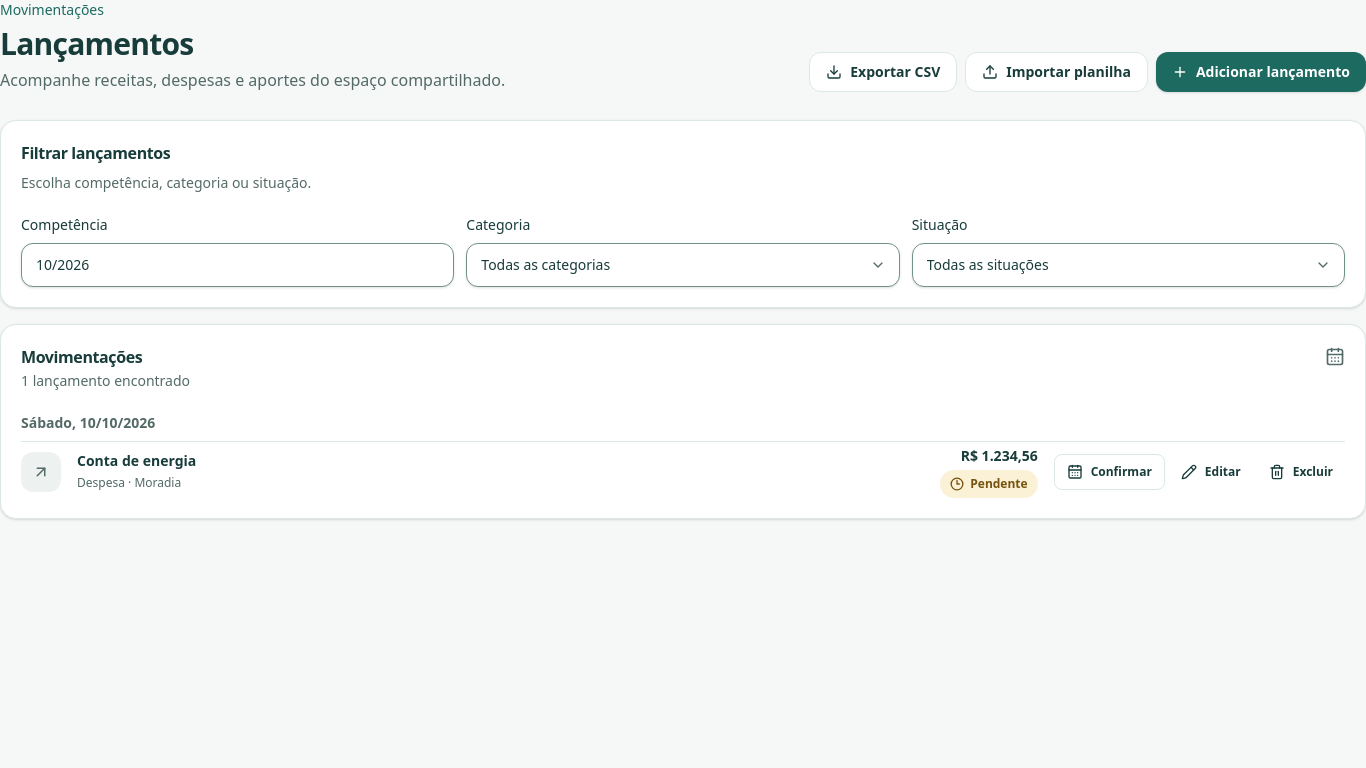
Scenario: financial entry pages › filters the shared list and deletes an entry after confirmation
The width and height of the screenshot is (1366, 768).
Expected: the text "Conta de energia" is shown, [77,451,196,470]
Select "Moradia" in the dropdown labelled "Categoria" at (683, 265), box [466,243,900,287]
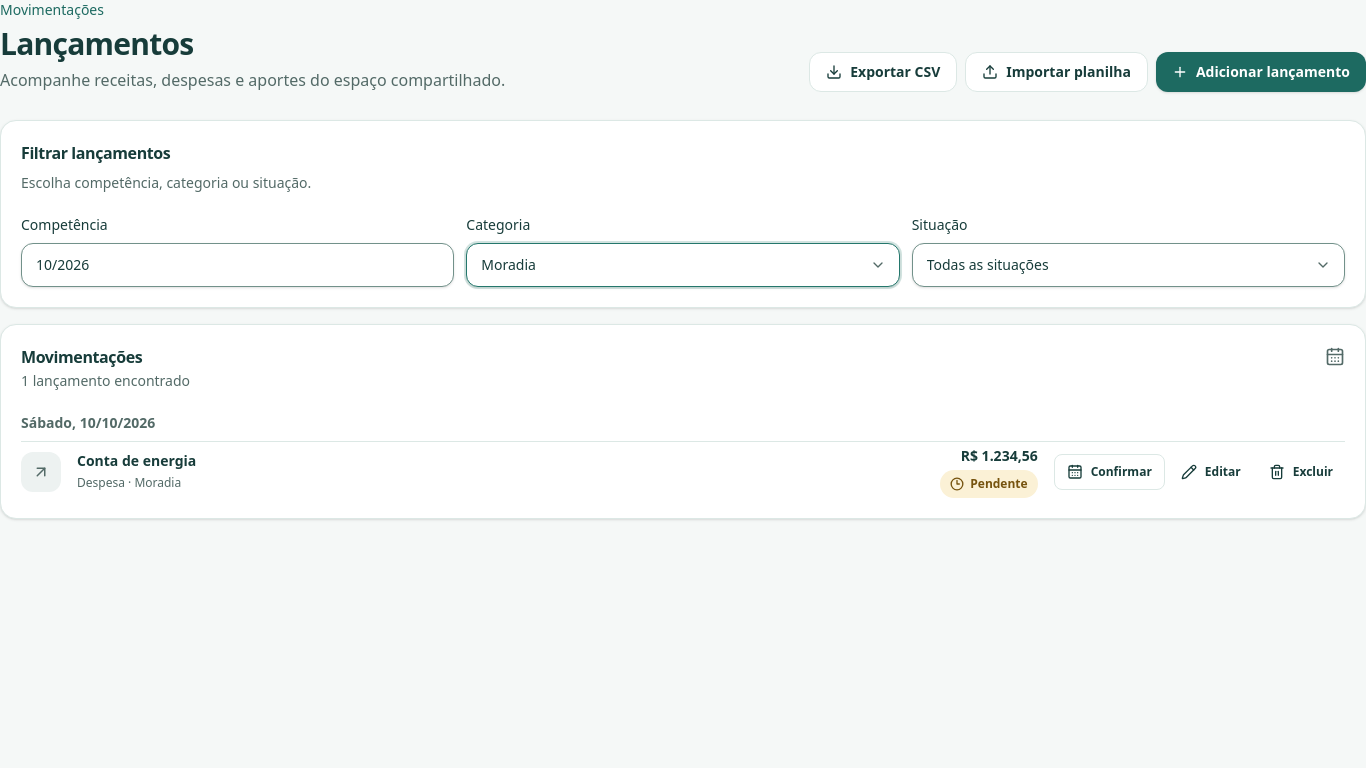
Select "Em aberto" in the dropdown labelled "Situação" at (1128, 265), box [912,243,1345,287]
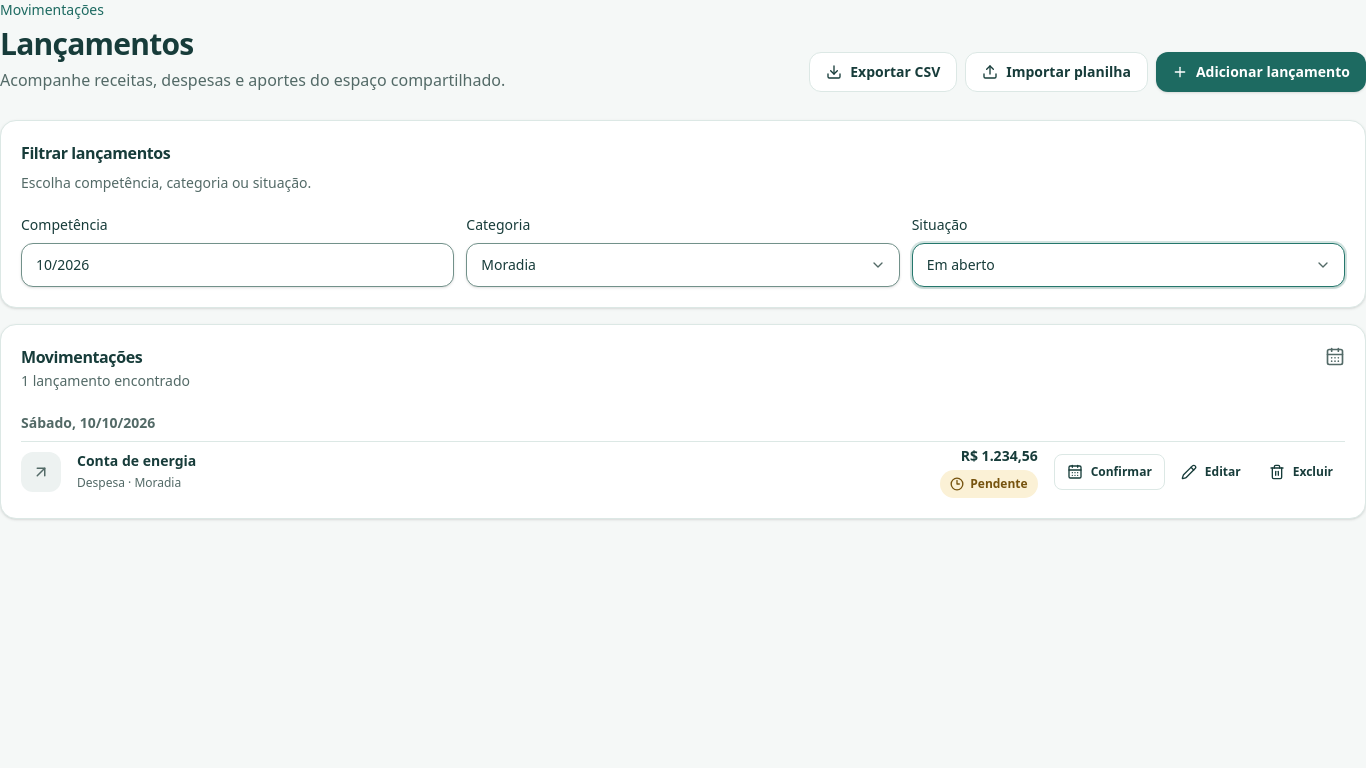
Click the button with aria-label "Excluir Conta de energia" at (1301, 472), box [1257,454,1345,490]
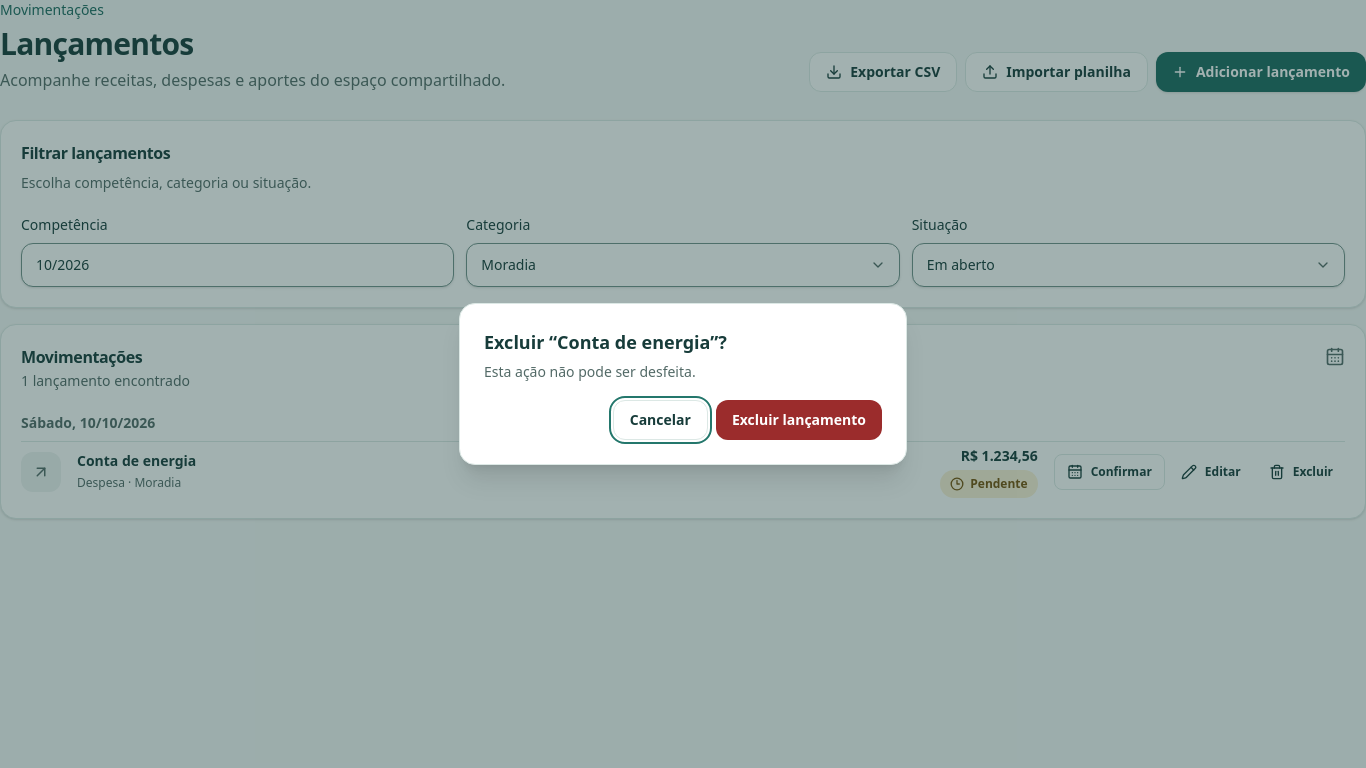
Click the button "Excluir lançamento" at (799, 420), box [716,400,882,440]
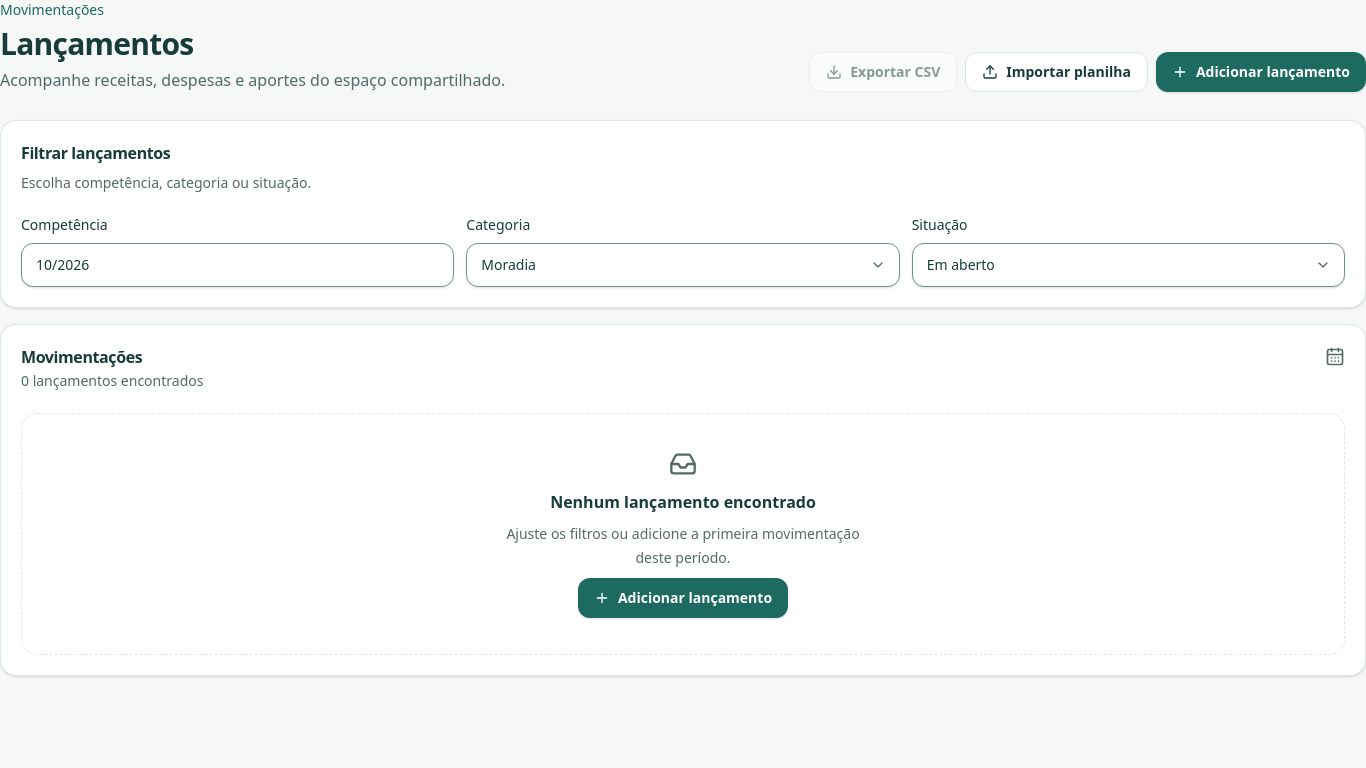
Expected: the message "Nenhum lançamento encontrado" is shown, [21,413,1345,655]
